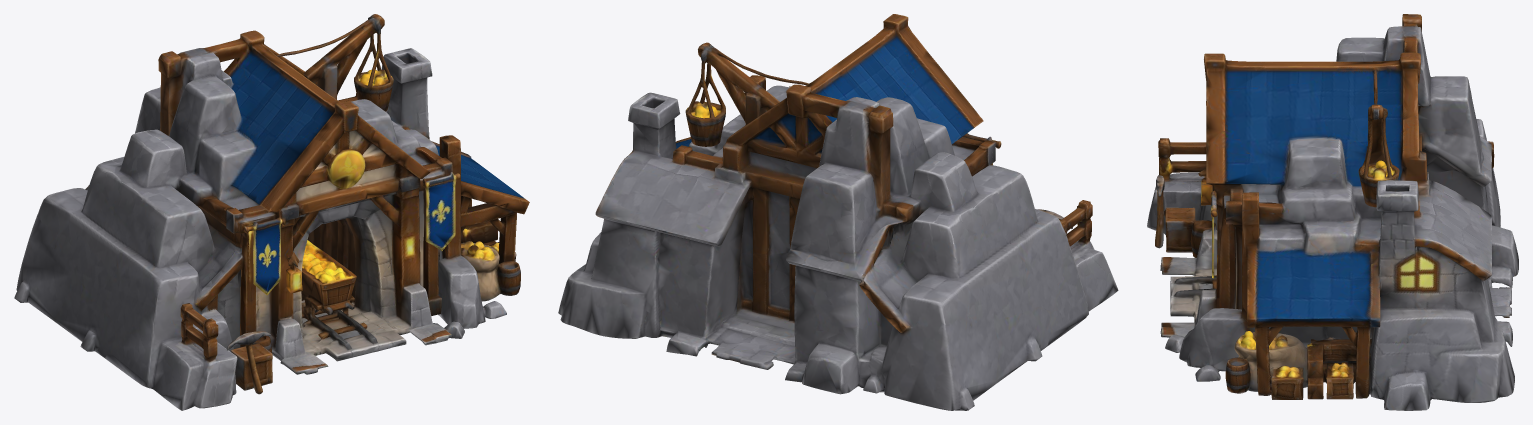
Rendered from gold_mine.glb.
The picture shows the model from 3 angles, left to right: view 1: azimuth 30°, elevation 25°; view 2: azimuth 150°, elevation 25°; view 3: azimuth 270°, elevation 25°; orthographic projection. The views are drawn at different scales.
Bounding box in the file's own units: 1.9 × 1.12 × 1.43.
Materials: 1 (1 with a texture image).
